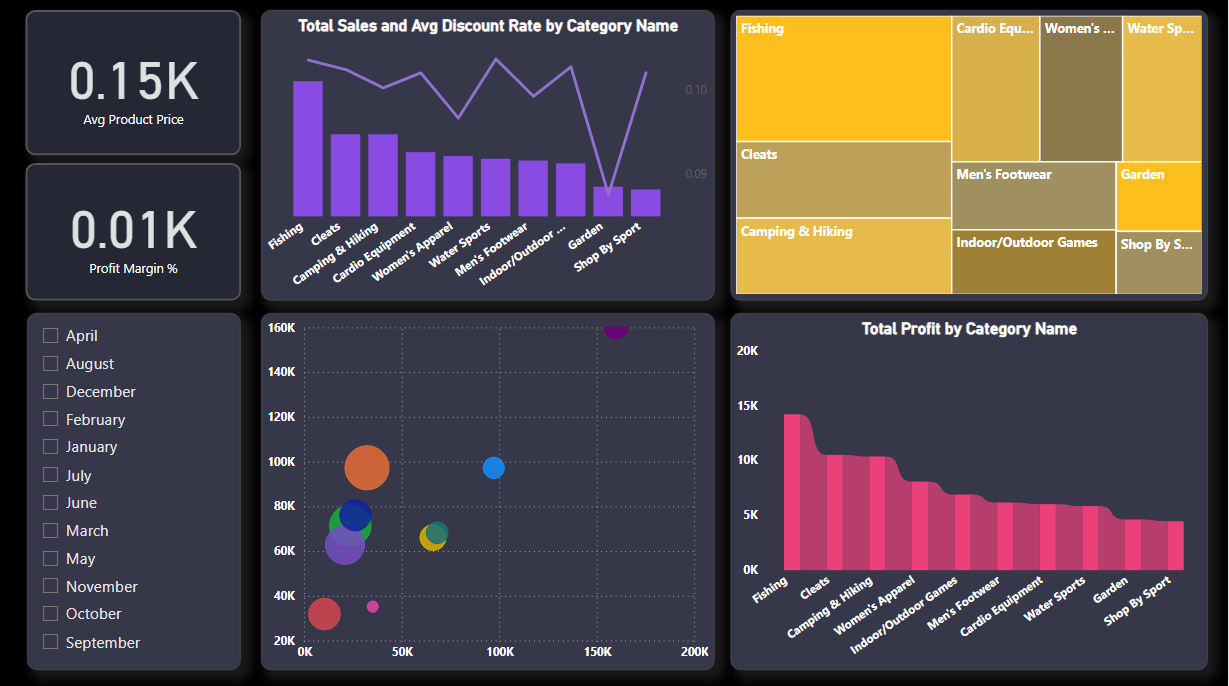

Layout of this report page (visuals, bound fields, positions):
{"tool":"powerbi","page":{"name":"Product Performance","canvas":[1280,720],"ordinal":1},"visuals":[{"type":"card","fields":{"Values":["SupplyChain-Data.Avg Product Price"]},"box":[26.5,13.2,224.9,151.2],"z":0},{"type":"card","fields":{"Values":["SupplyChain-Data.Profit Margin %"]},"box":[26.5,172,224.9,143.6],"z":1000},{"type":"ribbonChart","fields":{"Y":["SupplyChain-Data.Total Profit"],"Category":["SupplyChain-Data.Category Name"]},"box":[761.6,328.8,497,372.3],"z":2000},{"type":"scatterChart","fields":{"X":["Sum(SupplyChain-Data.Product Price)"],"Y":["SupplyChain-Data.Total Sales"],"Size":["SupplyChain-Data.Total Quantity"],"Series":["SupplyChain-Data.Category Name"],"Category":["SupplyChain-Data.Product Name"]},"box":[272.1,328.8,472.4,372.3],"z":3000},{"type":"slicer","fields":{"Values":["Date Table.Month"]},"box":[28.3,328.8,223,372.3],"z":4000},{"type":"lineClusteredColumnComboChart","fields":{"Category":["SupplyChain-Data.Category Name"],"Y":["SupplyChain-Data.Total Sales"],"Y2":["SupplyChain-Data.Avg Discount Rate"]},"box":[272.1,13.2,472.4,302.4],"z":5000},{"type":"treemap","fields":{"Group":["SupplyChain-Data.Category Name"],"Values":["SupplyChain-Data.Total Sales"]},"box":[761.6,13.2,497,302.4],"z":6000}]}

Visuals, with their boxes in screenshot pixels (x1, y1, x2, y2), scaled from the page's 1280x720 canvas onto the 1229x686 screenshot:
card - SupplyChain-Data.Avg Product Price: {"x1": 25, "y1": 13, "x2": 241, "y2": 157}
card - SupplyChain-Data.Profit Margin %: {"x1": 25, "y1": 164, "x2": 241, "y2": 301}
ribbonChart - SupplyChain-Data.Total Profit x SupplyChain-Data.Category Name: {"x1": 731, "y1": 313, "x2": 1208, "y2": 668}
scatterChart - Sum(SupplyChain-Data.Product Price) x SupplyChain-Data.Total Sales: {"x1": 261, "y1": 313, "x2": 715, "y2": 668}
slicer - Date Table.Month: {"x1": 27, "y1": 313, "x2": 241, "y2": 668}
lineClusteredColumnComboChart - SupplyChain-Data.Category Name x SupplyChain-Data.Total Sales: {"x1": 261, "y1": 13, "x2": 715, "y2": 301}
treemap - SupplyChain-Data.Category Name x SupplyChain-Data.Total Sales: {"x1": 731, "y1": 13, "x2": 1208, "y2": 301}
